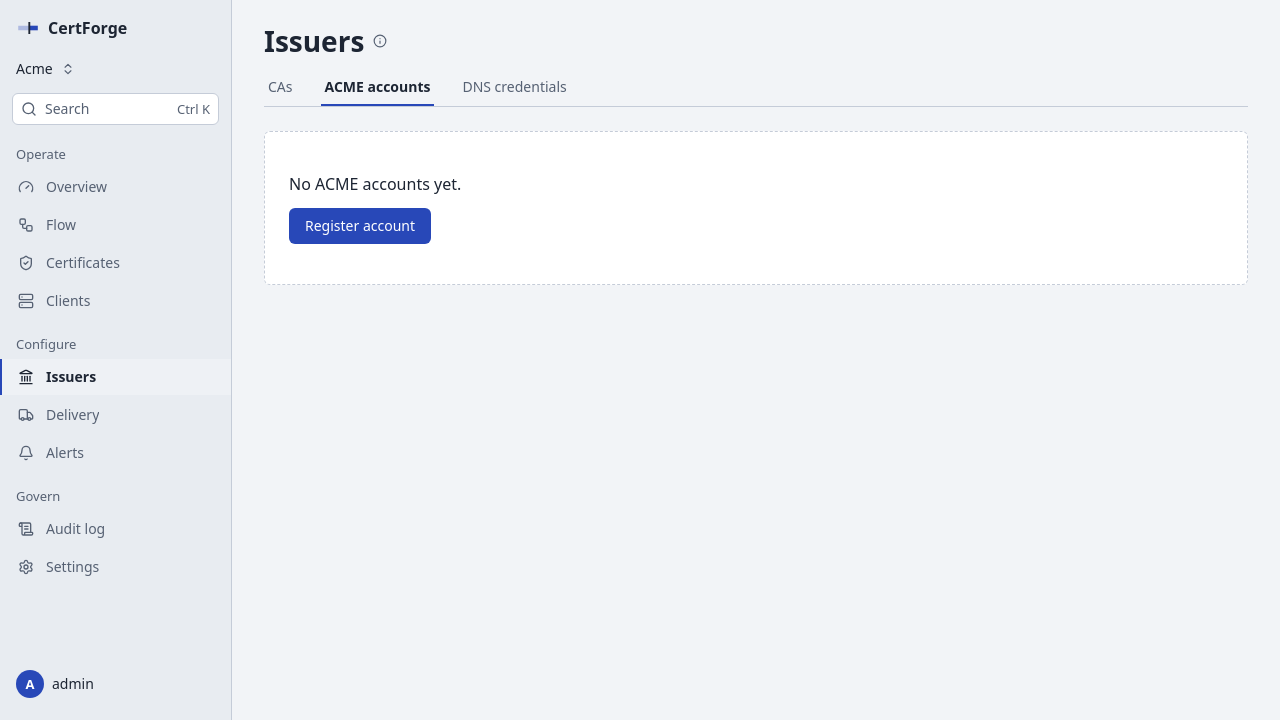
offers only ACME CAs when registering an account
Click the button "Register account".
click(360, 226)  # box left=289, top=208, right=431, bottom=244
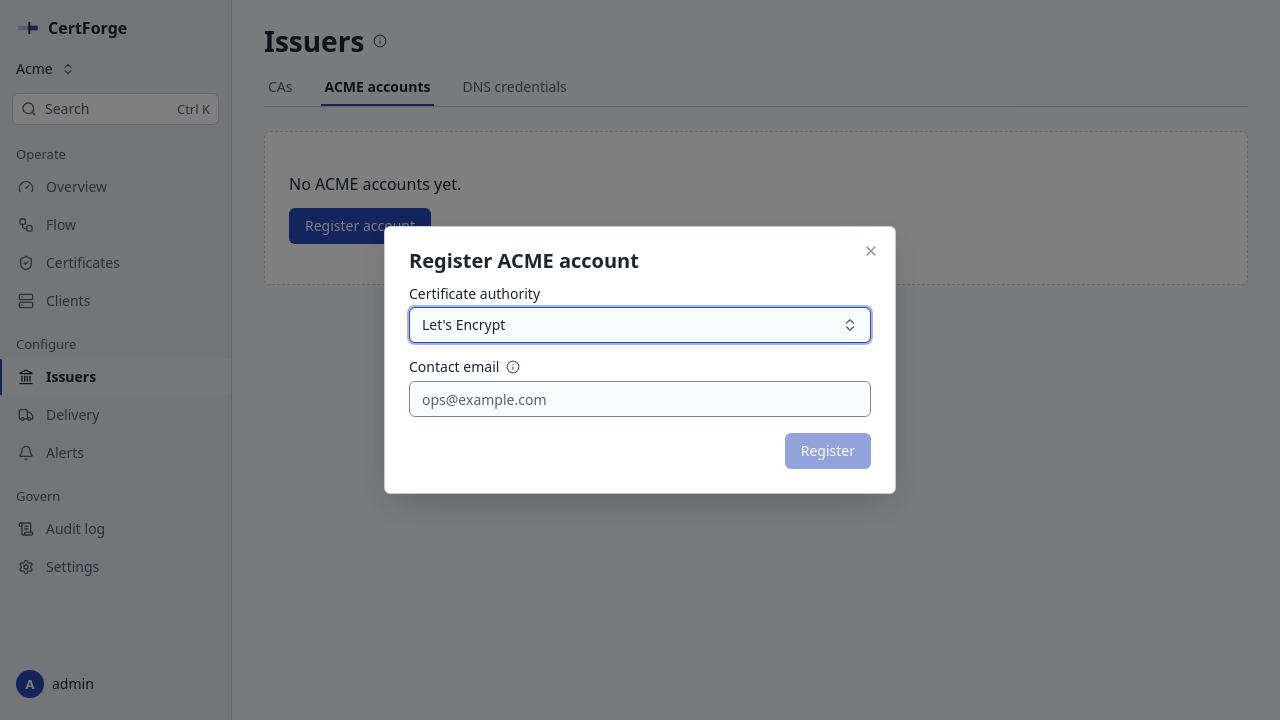
Click the dropdown named "Certificate authority".
click(464, 324)  # box left=409, top=307, right=871, bottom=343
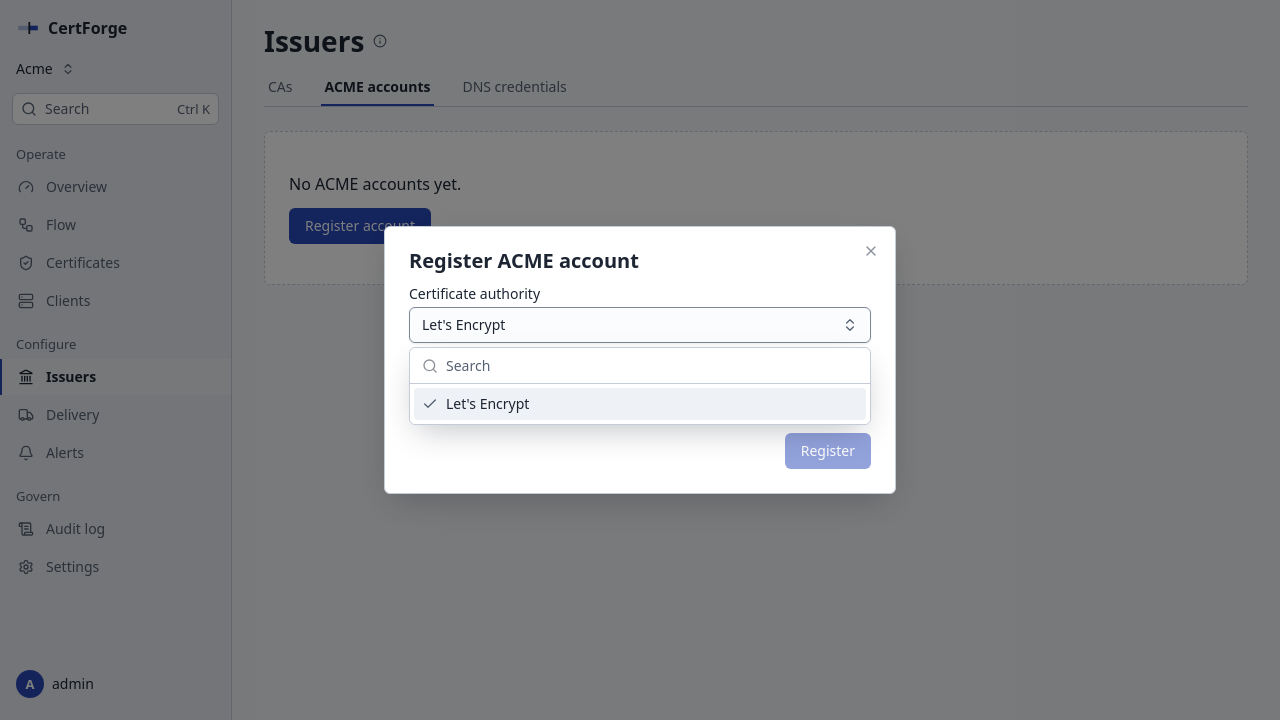
Expected: the option "Let's Encrypt" is shown, left=414, top=388, right=866, bottom=420
